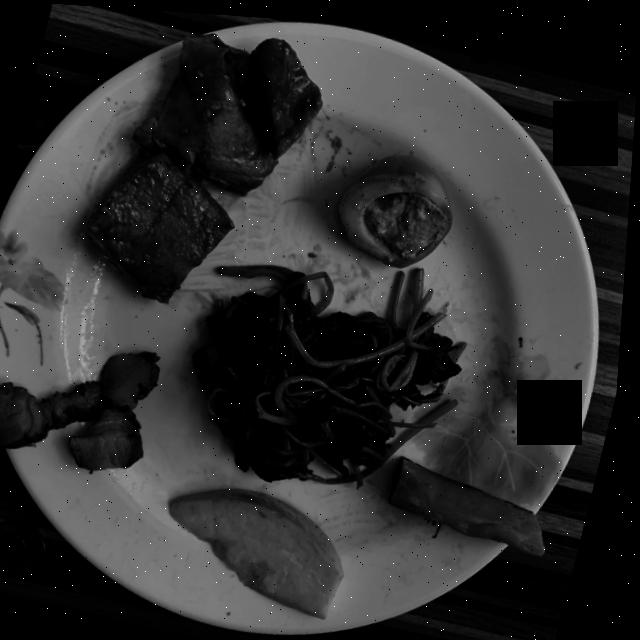coin: (0, 518, 53, 573)
creamy tofu: (90, 29, 321, 299)
grilled pork: (0, 348, 164, 467)
guava -sliced-: (177, 484, 351, 613)
pumpkin: (396, 451, 552, 546)
soy egg: (341, 148, 455, 261)
sweet potato leaves: (198, 260, 465, 478)
